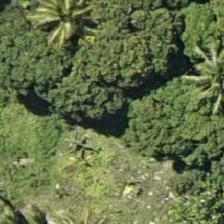coconut_tree: (162, 40, 223, 130), (7, 0, 97, 52)
